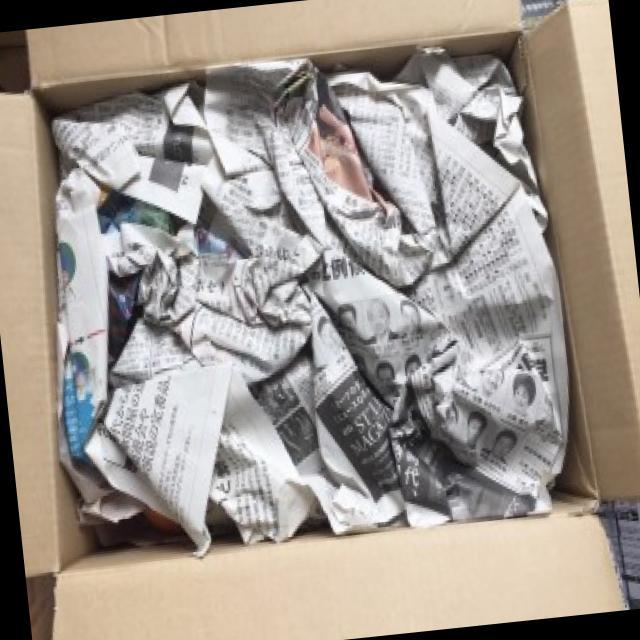reuseable_paper: (36, 21, 592, 555)
